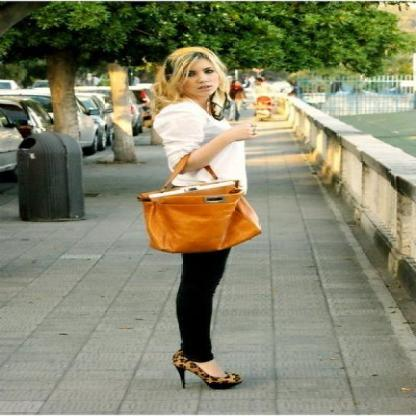bag: (137, 165, 275, 256)
pants: (176, 247, 230, 362)
shirt: (153, 99, 246, 196)
shoe: (181, 361, 246, 393)
